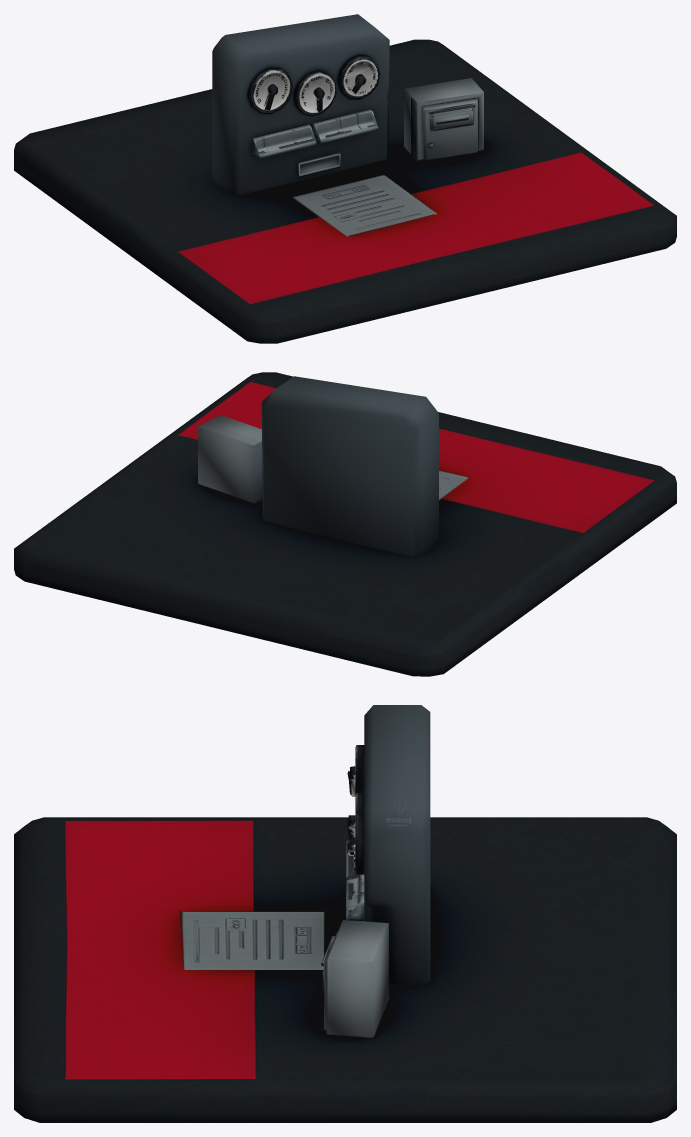
The model's file is overheads.glb.
The picture shows the model from 3 angles, top to bottom: view 1: azimuth 30°, elevation 25°; view 2: azimuth 150°, elevation 25°; view 3: azimuth 270°, elevation 25°; orthographic projection. The views are drawn at different scales.
Visible parts, largest first — view 1: tripo_node_c943c5a8-230b-41cb-ba2f-fa6e9c036baa; view 2: tripo_node_c943c5a8-230b-41cb-ba2f-fa6e9c036baa; view 3: tripo_node_c943c5a8-230b-41cb-ba2f-fa6e9c036baa.
Boxes of the visible parts, x1,y1,x2,y2 form: tripo_node_c943c5a8-230b-41cb-ba2f-fa6e9c036baa: [14, 14, 676, 343]; tripo_node_c943c5a8-230b-41cb-ba2f-fa6e9c036baa: [14, 372, 676, 676]; tripo_node_c943c5a8-230b-41cb-ba2f-fa6e9c036baa: [14, 705, 676, 1122].
Size of the model in its own units: 0.9785 by 0.3691 by 0.998.
1 material, 1 textured.
